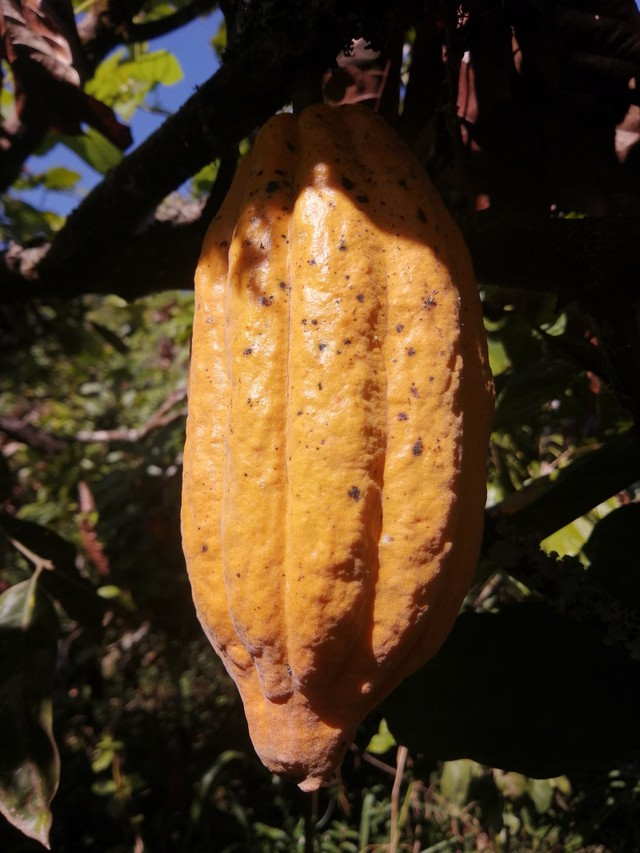Health: (162, 82, 519, 801)
